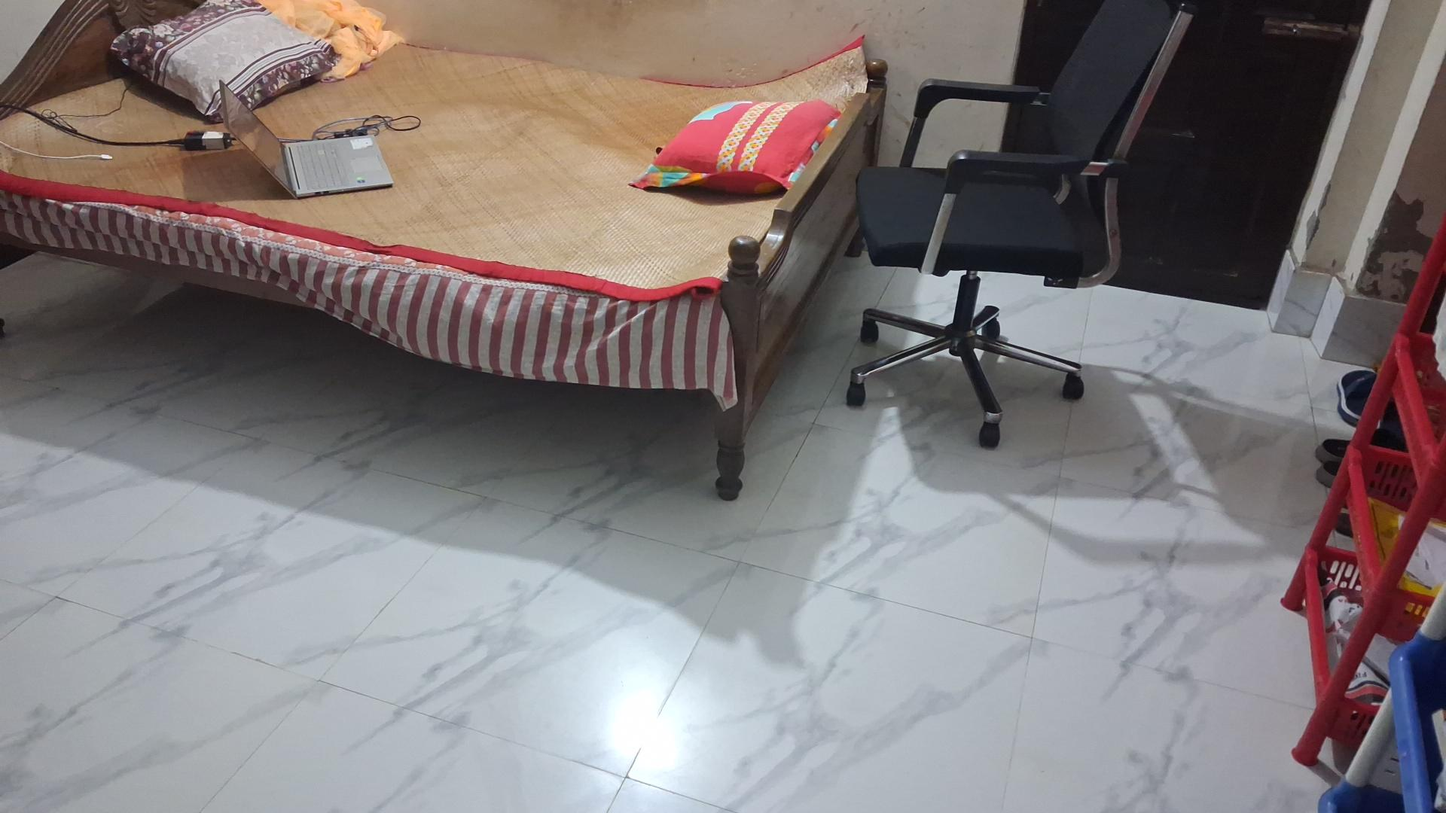Chair: (845, 0, 1191, 450)
Laptop: (218, 79, 394, 199)
Pillow: (102, 0, 339, 121), (635, 92, 838, 195)
